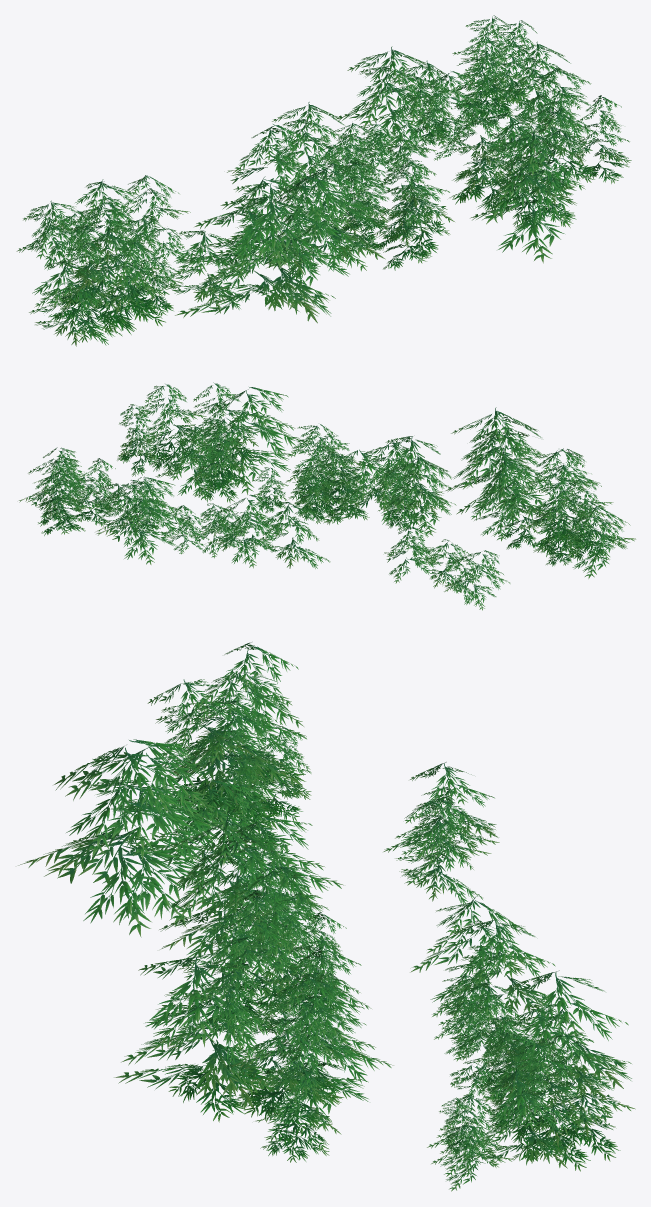
File: Area_10_17.fbx
3 renders of one model, top to bottom at view 1: azimuth 30°, elevation 25°; view 2: azimuth 150°, elevation 25°; view 3: azimuth 270°, elevation 25°, orthographic. The views are drawn at different scales.
Visible parts, largest first — view 1: Area_10_17; view 2: Area_10_17; view 3: Area_10_17.
Boxes of the visible parts, x1,y1,x2,y2 form: Area_10_17: (16,15,631,346); Area_10_17: (19,382,635,610); Area_10_17: (18,642,635,1191).
Size of the model in its own units: 9612 by 2087 by 6027.
